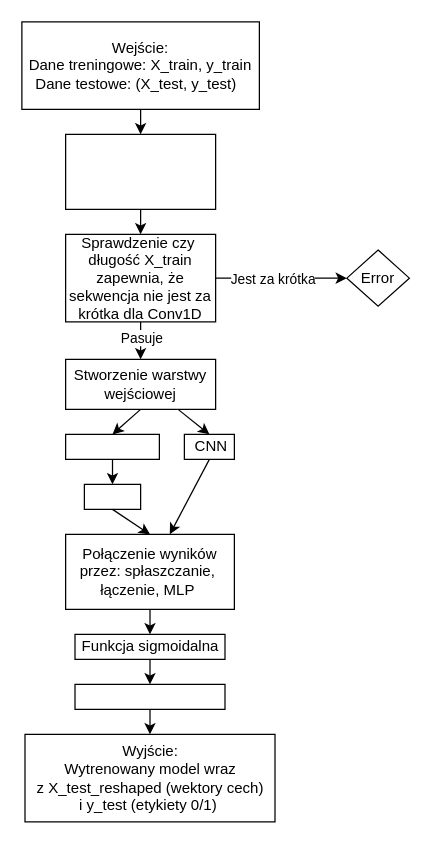
The diagram is 431 pixels wide and 844 high, and some of its shapes have lost their labels. The box of each missing label's shape, as (x1, y1, x2, y2) in pixels:
Bi-LSTM: (64, 433, 159, 459)
MLP: (83, 483, 141, 509)
Model wytrenowany: (74, 683, 225, 709)
Przekształcenie X_test i X_train do rozmiaru 2D wraz ze skalowaniem: (64, 133, 216, 209)
